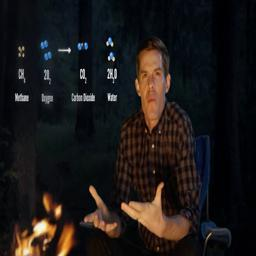fire: (14, 195, 74, 256), (57, 224, 75, 256)
